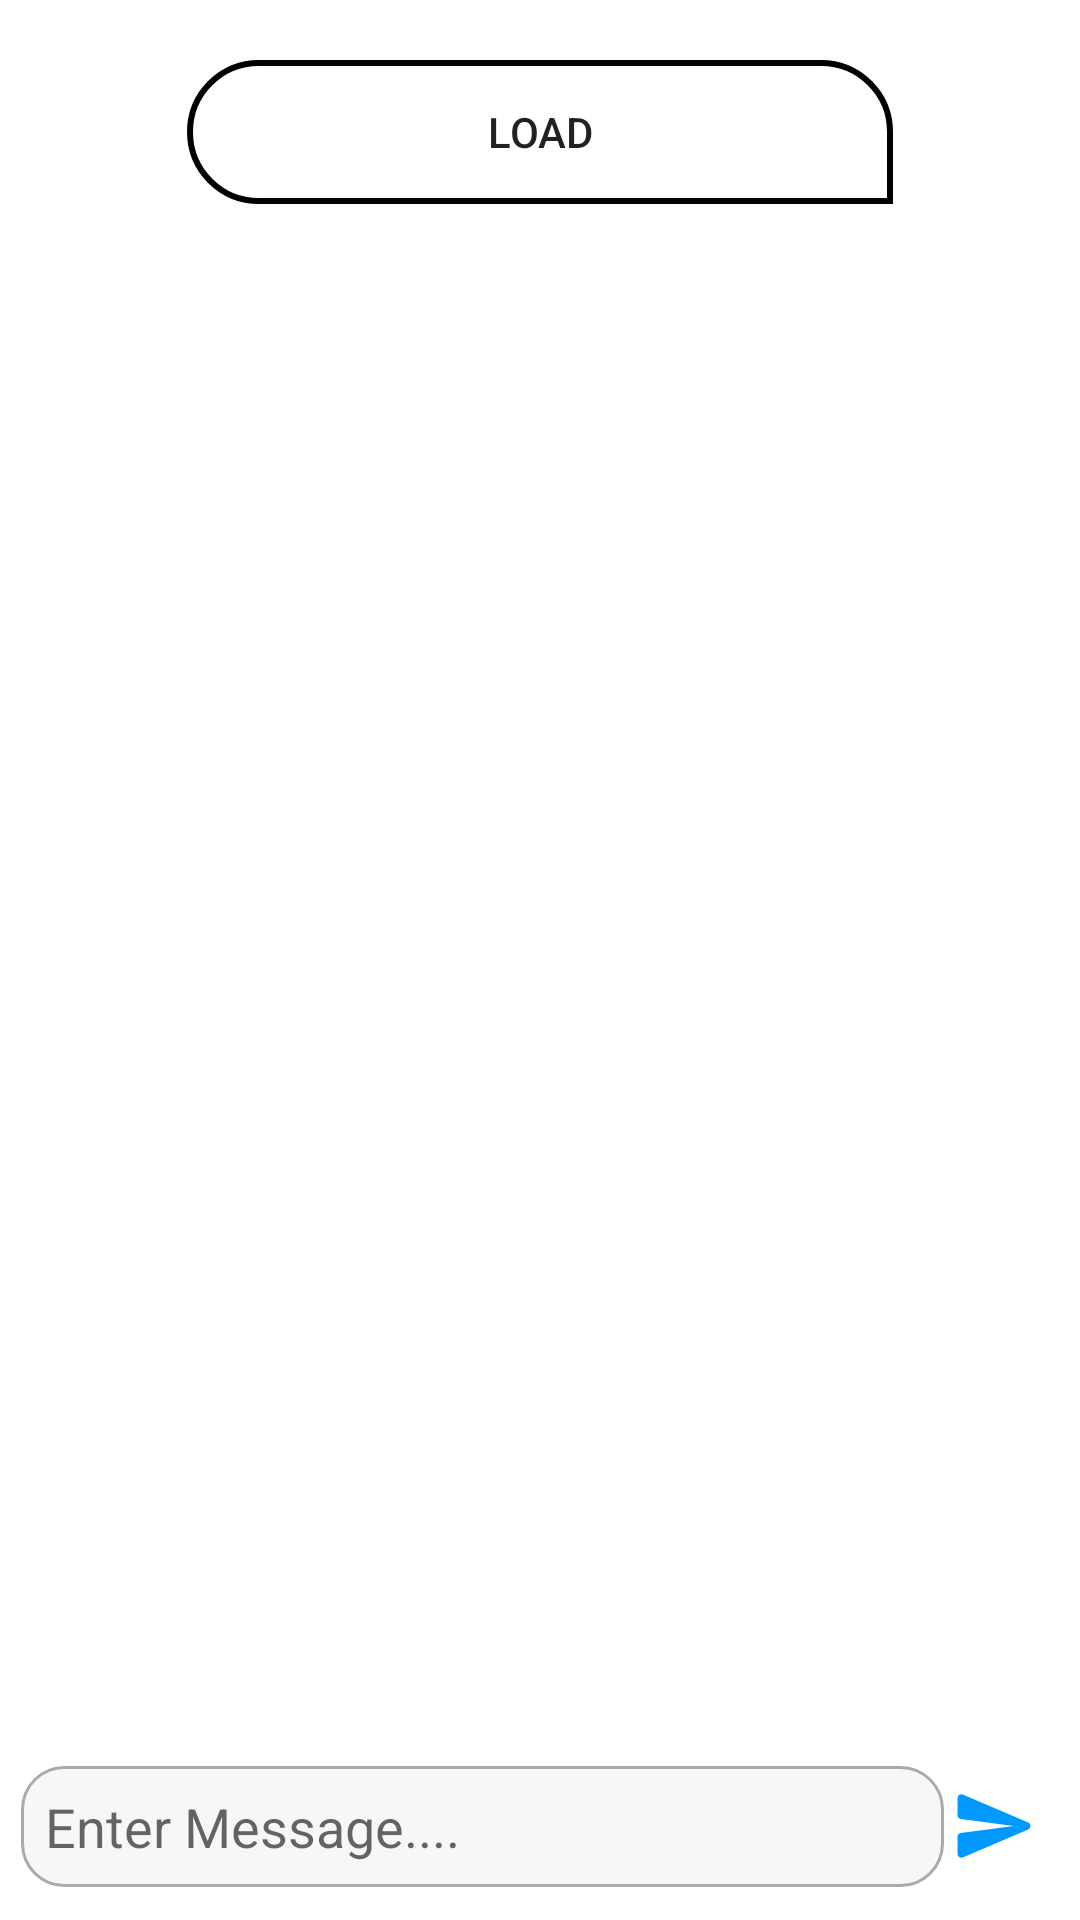

Icons on this 1080px×1920px Android screen, each with the point to tap as point (x, y):
send: point (994, 1826)
